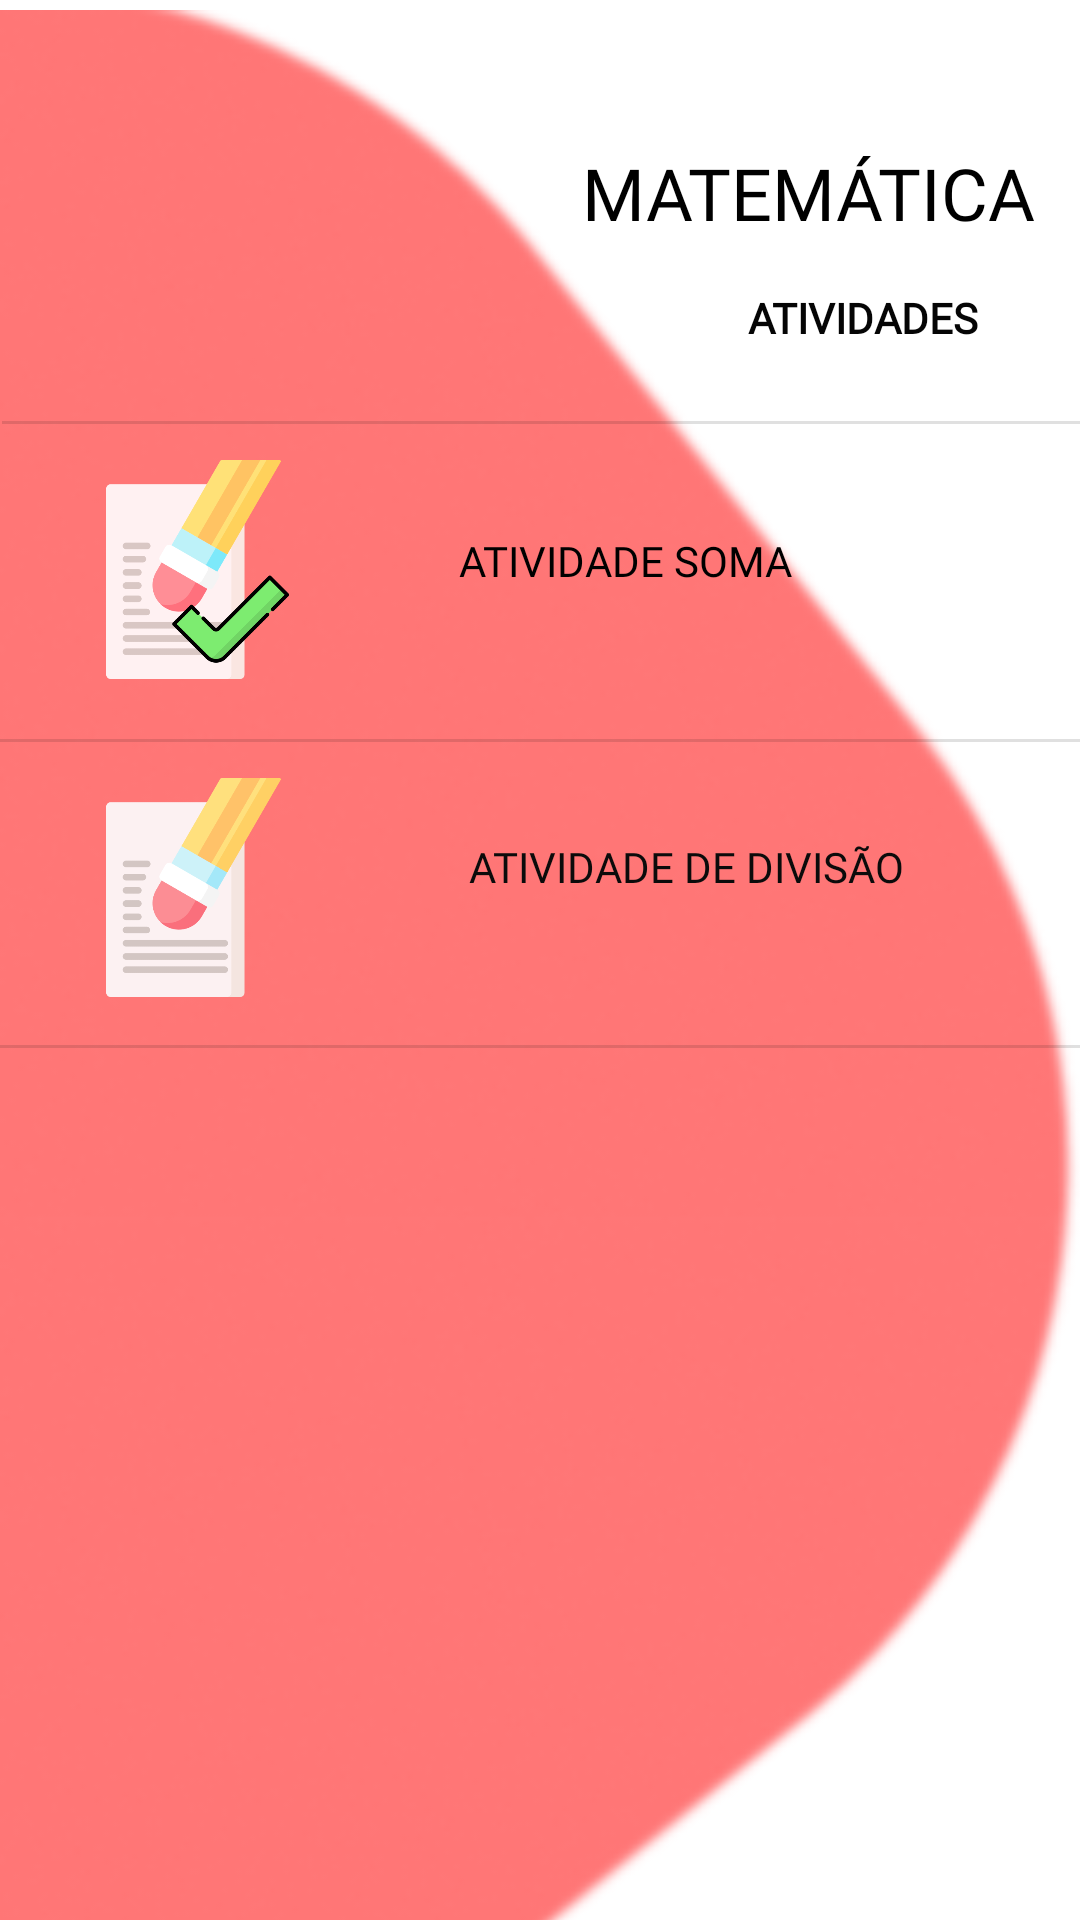

Icon bounding boxes for this 1080x1920 phone screenshot, format bbox(x1, y1, x2, y2):
amg atividade corrigida: bbox(106, 460, 289, 679)
